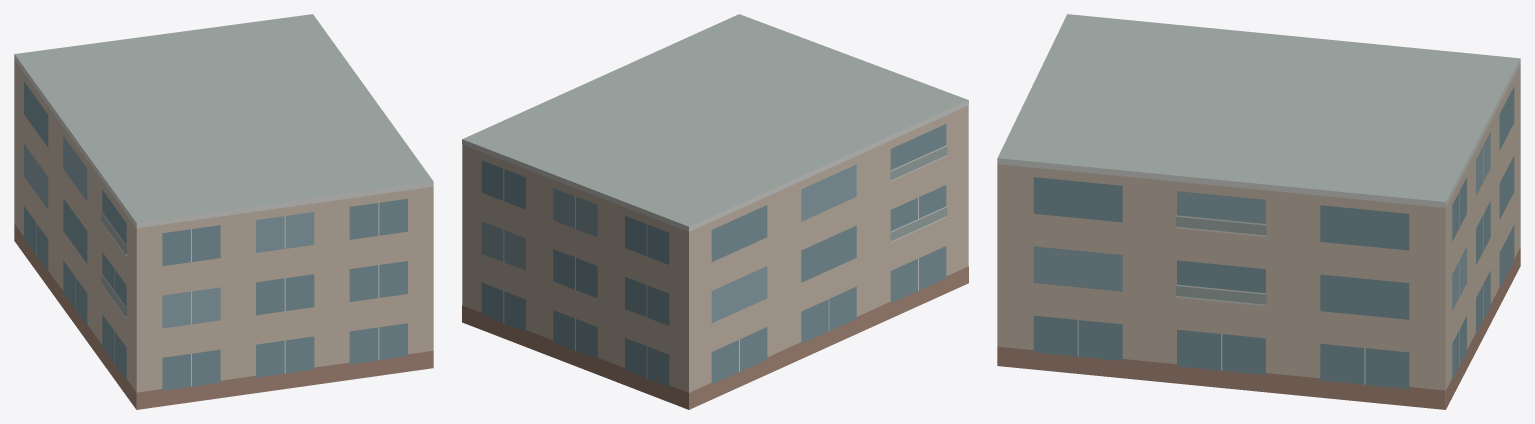
The model's file is survey-upis-32541216.glb.
3 views of the same model, side by side, from view 1: azimuth 30°, elevation 25°; view 2: azimuth 150°, elevation 25°; view 3: azimuth 270°, elevation 25° (orthographic). The views are drawn at different scales.
Visible parts, largest first — view 1: survey-upis-32541216.tmp; view 2: survey-upis-32541216.tmp; view 3: survey-upis-32541216.tmp.
Part boxes in pixels (bbox=[...]): survey-upis-32541216.tmp: bbox=[14, 14, 433, 409]; survey-upis-32541216.tmp: bbox=[462, 14, 968, 409]; survey-upis-32541216.tmp: bbox=[997, 14, 1520, 409].
Size of the model in its own units: 16.7 by 8.6 by 19.63.
